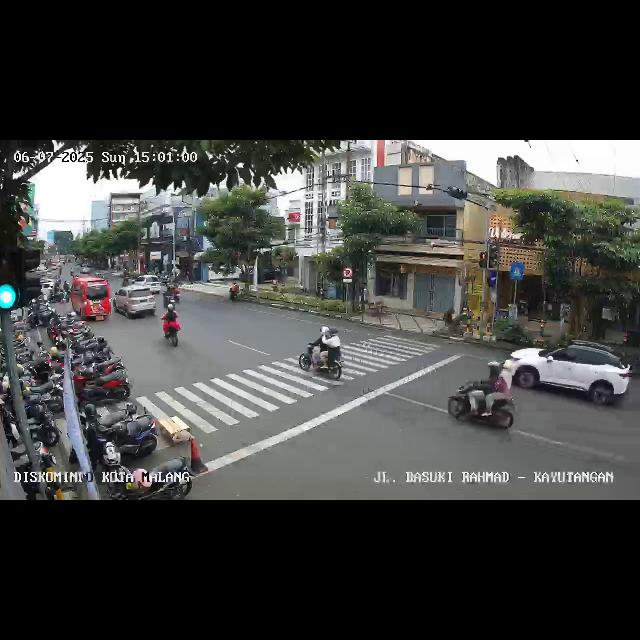car: (510, 338, 634, 409), (68, 276, 112, 322), (113, 287, 159, 321)
motorcycle: (450, 363, 518, 435), (296, 325, 346, 383), (160, 306, 182, 346), (164, 284, 178, 306)
